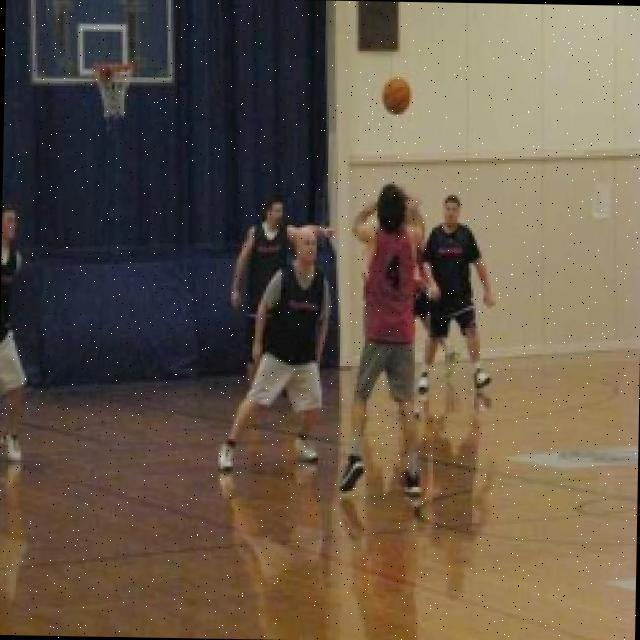ball: (378, 66, 417, 123)
hoop: (92, 62, 135, 76)
